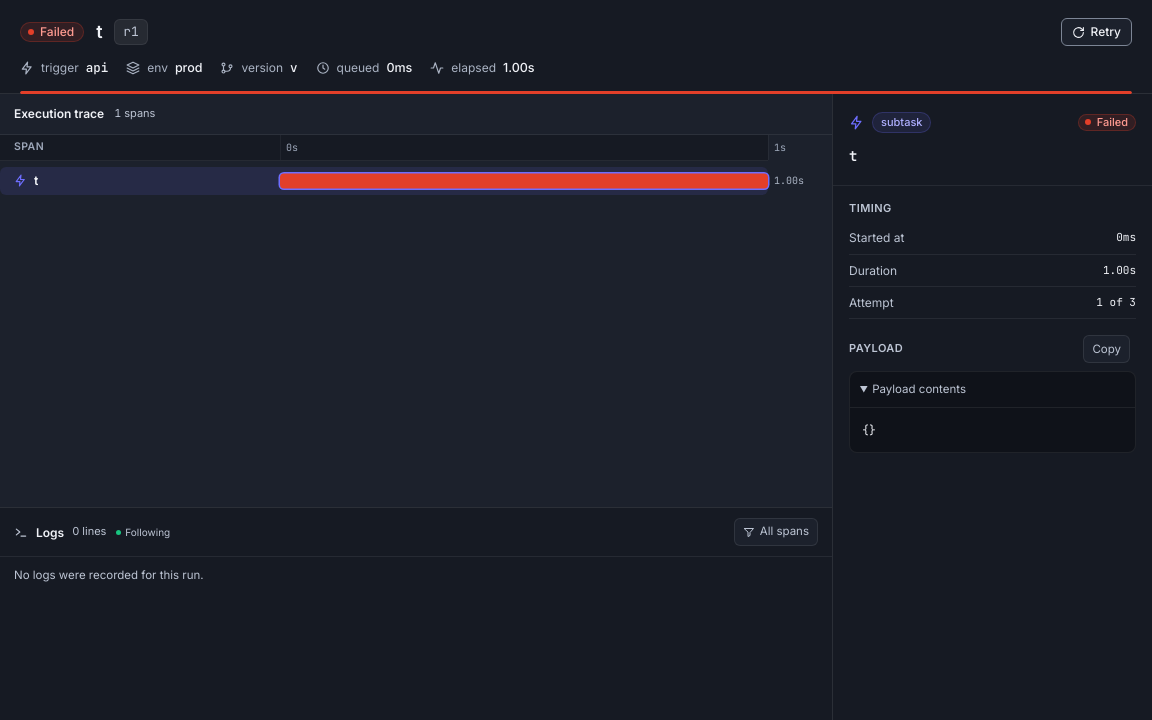
RunHeader retry › a 401 on a control action feeds the connection registry, not just the inline error (C3)
The width and height of the screenshot is (1152, 720).
Click the button "Retry" at (1096,32), box [1060,18,1132,46]
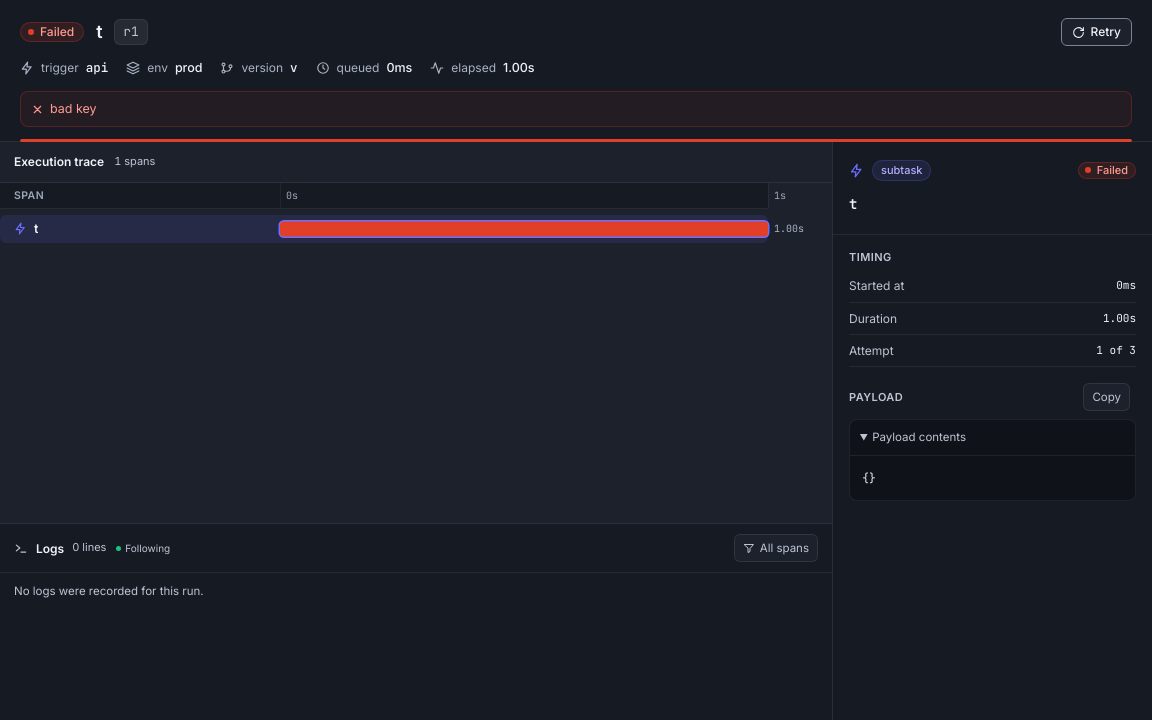
Result: the message "bad key" is shown at [20,91,1132,127]
Result: the text "bad key" is shown at [50,100,97,118]
